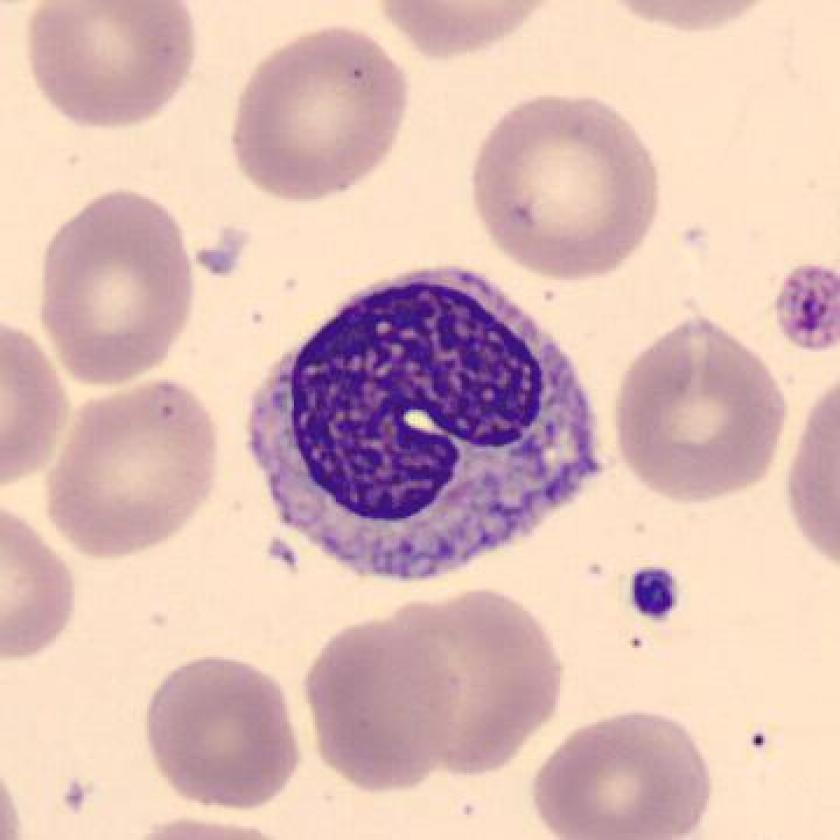monocyte: (227, 256, 617, 596)
